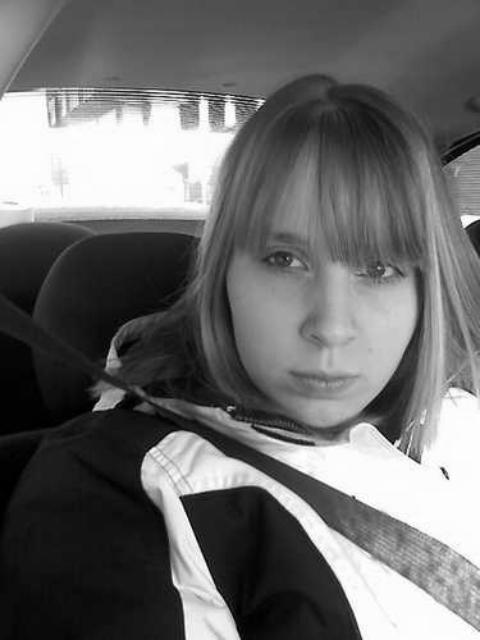SafeDriving: (250, 232, 316, 281), (345, 248, 413, 294)
Seatbelt: (0, 288, 480, 640)
